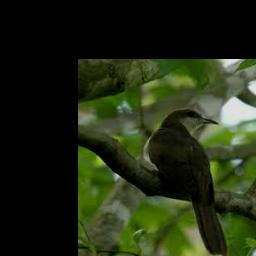Cuckoo: (143, 108, 228, 256)
